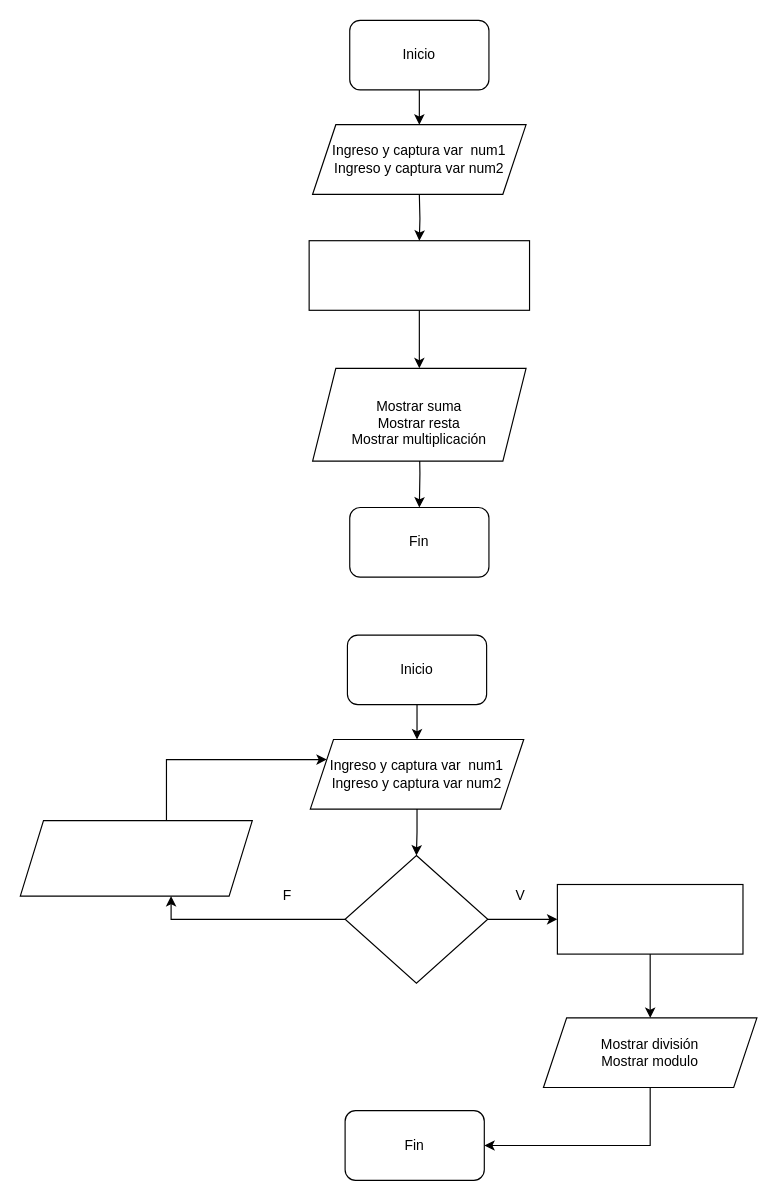
Some shapes in this 777 by 1201 pixel diagram are drawn without their labels. The shapes that lost their labels are listed below. From the top down, each one's centre as x and y in pixels, then its label:
(x=419, y=275): var suma=num1+num2 var resta= nume1-num2 var multiplicacion= num1*num2
(x=135, y=858): Ingrese numero mayor a cero
(x=416, y=918): num2 >0
(x=649, y=918): var division=num1/num2 var modulo= num1%num2
